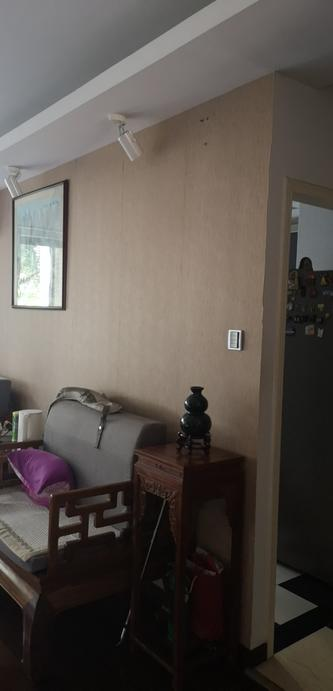switch: (227, 327, 244, 349)
